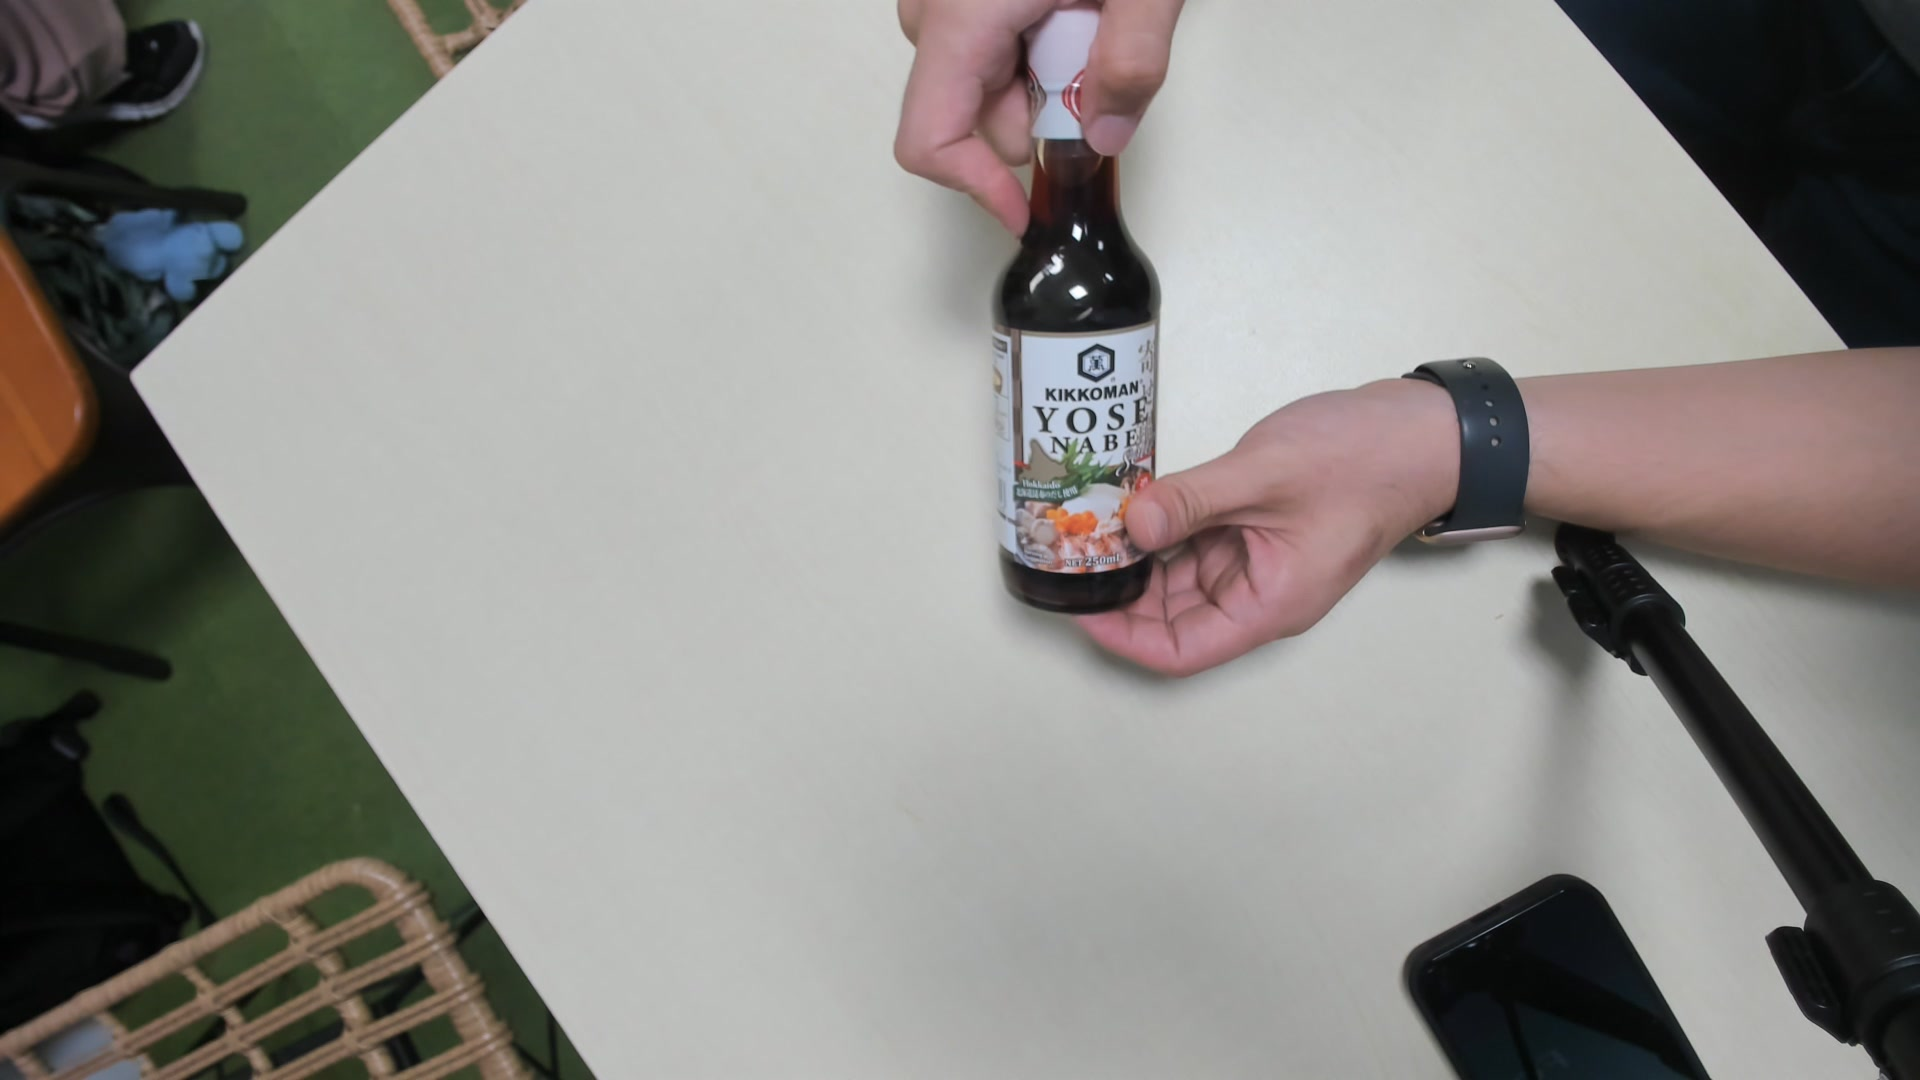OtherSauceDressing_200-299g_NonHalal_NonHealthy: (986, 3, 1160, 609)
